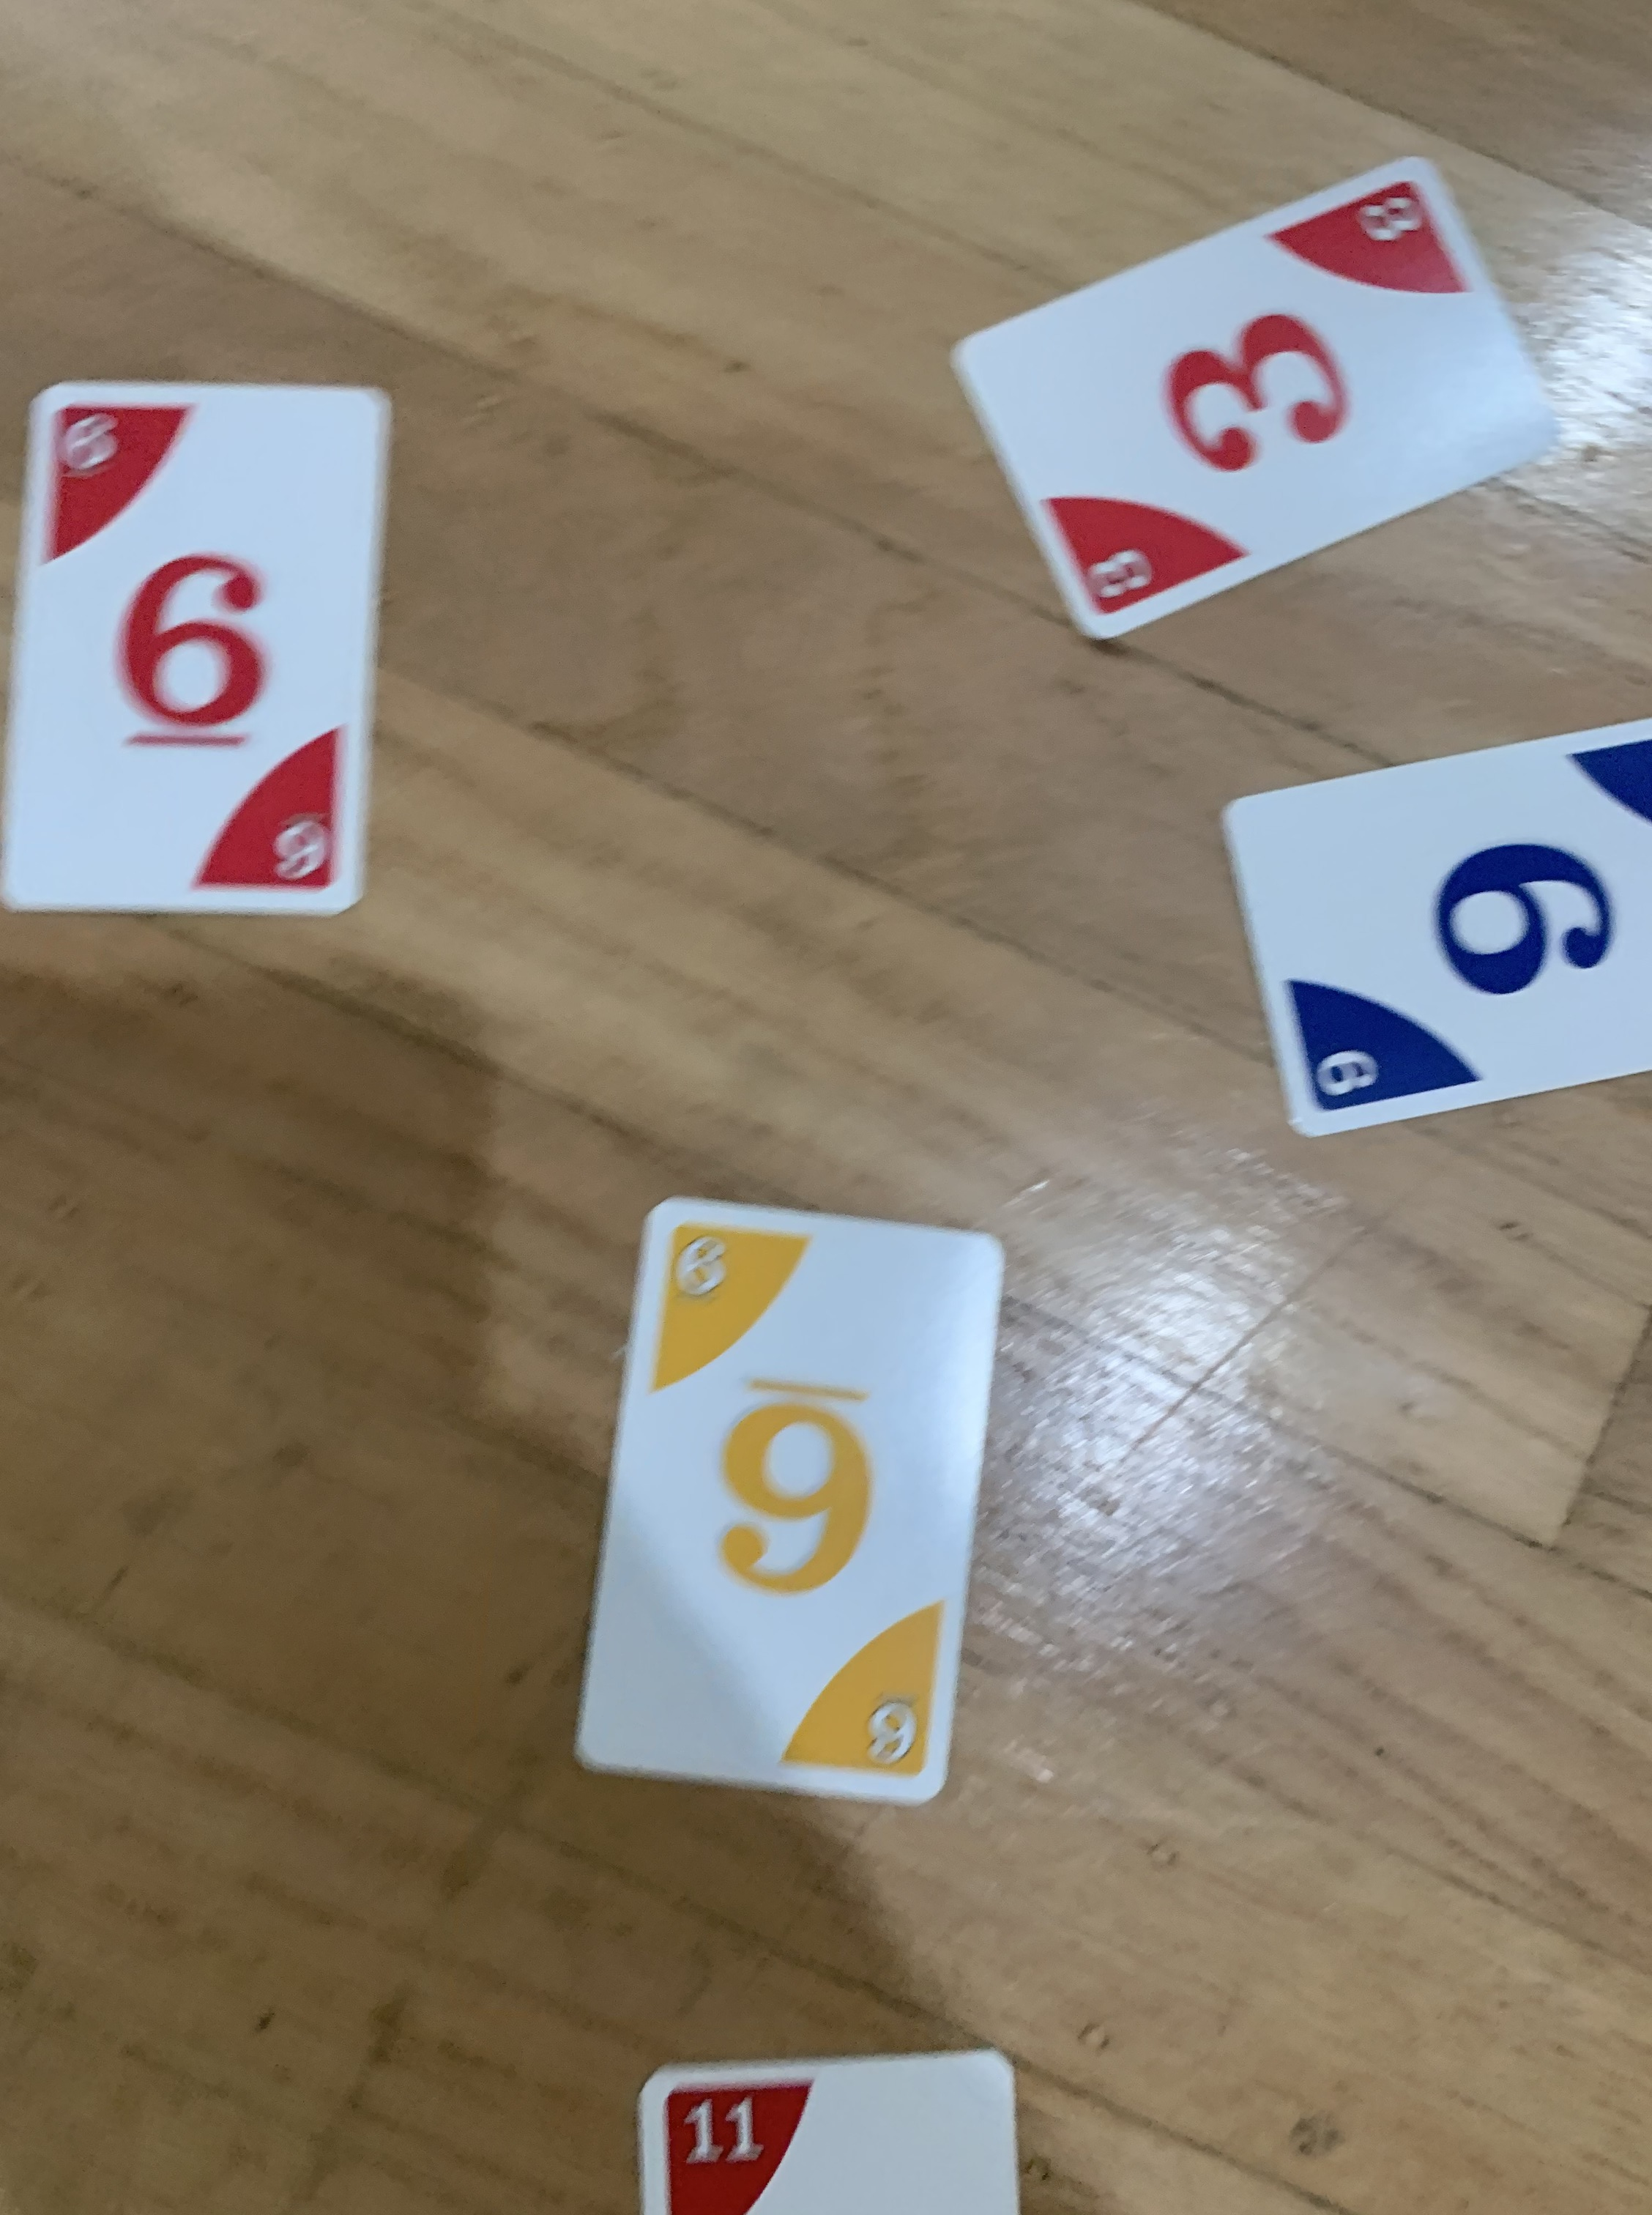nine: (564, 1173, 1015, 1821), (1208, 693, 1652, 1144)
six: (0, 377, 410, 920)
three: (947, 135, 1570, 665)
